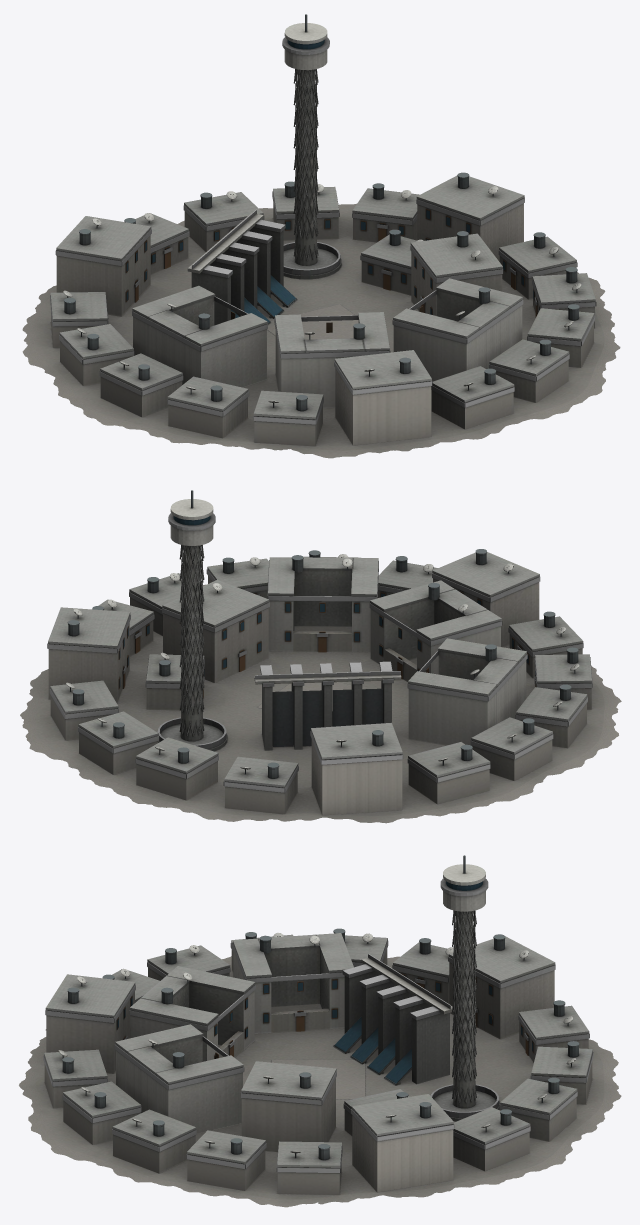
The model's file is modern-town-big-b-nile.glb.
3 views of the same model, one above another, from view 1: azimuth 30°, elevation 25°; view 2: azimuth 150°, elevation 25°; view 3: azimuth 270°, elevation 25° (orthographic).
Parts seen in each view (by area): view 1: LOD0; view 2: LOD0; view 3: LOD0.
Part boxes in pixels (left/top/right/bottom): LOD0: left=22, top=14, right=620, bottom=458; LOD0: left=20, top=490, right=621, bottom=823; LOD0: left=19, top=855, right=621, bottom=1207.
Size of what is drawn, in the model's own units: 8 by 3.6 by 7.89.
Materials: 3 (3 with a texture image).
